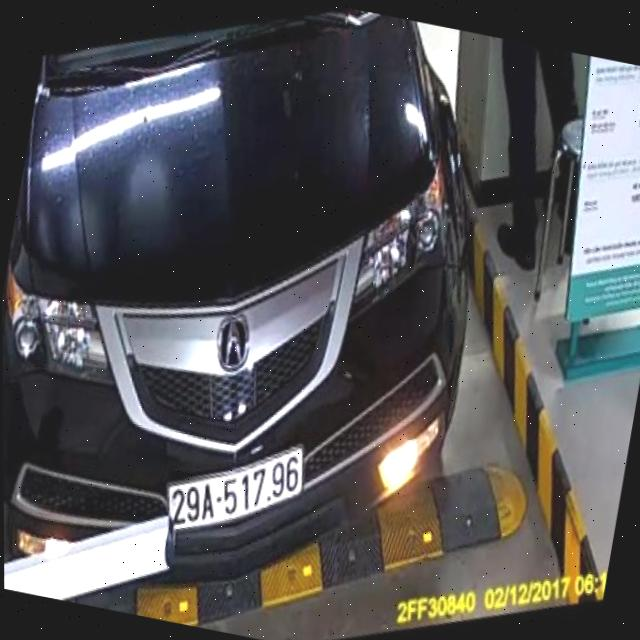car: (2, 7, 494, 597)
plate: (160, 438, 312, 538)
